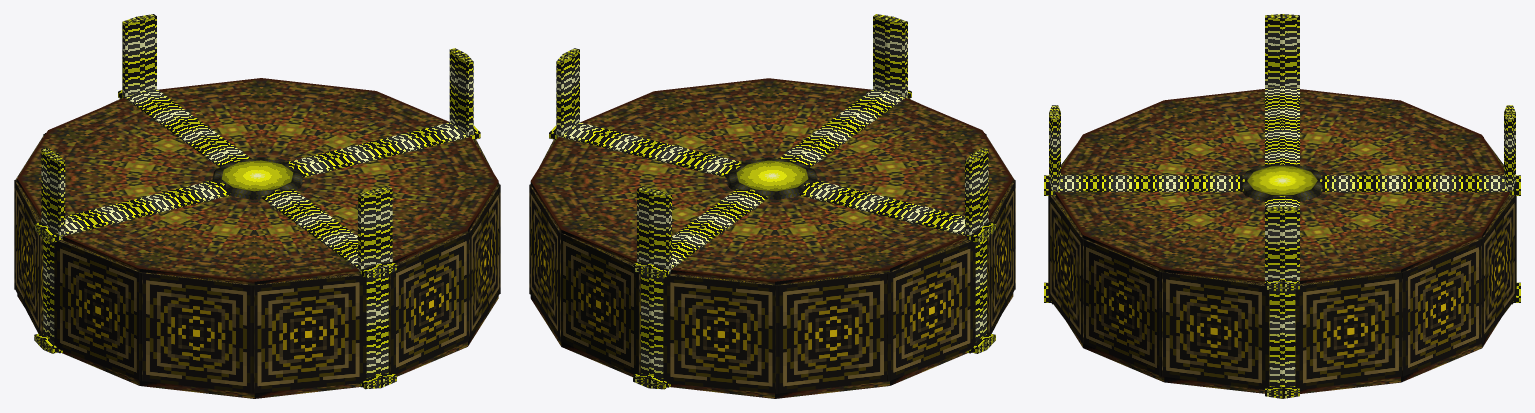
The model's file is SelectStage.fbx.
3 renders of one model, left to right at view 1: azimuth 30°, elevation 25°; view 2: azimuth 150°, elevation 25°; view 3: azimuth 270°, elevation 25°, orthographic. The views are drawn at different scales.
Visible parts, largest first — view 1: cylinder_selection_4, cylinder_selection_6, cylinder_selection_5, cylinder_selection_7, cuboid_5, cuboid_3, cuboid_4, cuboid_1, cylinder_8, cylinder_10, cuboid, cylinder_12 (+10 smaller); view 2: cylinder_selection_7, cylinder_selection_5, cylinder_selection_4, cylinder_selection_6, cuboid_11, cuboid_7, cuboid_6, cuboid_8, cylinder_5, cylinder_10, cylinder_12, cuboid_10 (+10 smaller); view 3: cylinder_selection_6, cylinder_selection_5, cylinder_selection_4, cylinder_selection_7, cuboid_2, cuboid_9, cuboid, cuboid_10, cylinder_6, cuboid_1, cuboid_8, cylinder_11 (+10 smaller).
Part boxes in pixels (x1,y1,x2,y2): cylinder_selection_4: (63,195,359,284); cylinder_selection_6: (158,78,449,162); cylinder_selection_5: (296,137,498,263); cylinder_selection_7: (17,98,219,221); cuboid_5: (250,273,366,393); cuboid_3: (139,272,254,393); cuboid_4: (54,240,142,381); cuboid_1: (388,231,471,374); cylinder_8: (358,186,392,387); cylinder_10: (34,180,230,242); cuboid: (468,184,500,340); cylinder_12: (286,122,480,177); cylinder_selection_7: (671,196,966,284); cylinder_selection_5: (580,78,871,162); cylinder_selection_4: (811,98,1013,221); cylinder_selection_6: (530,137,733,263); cuboid_11: (663,273,779,393); cuboid_7: (775,272,890,393); cuboid_6: (885,240,975,381); cuboid_8: (558,231,640,376); cylinder_5: (637,186,671,387); cylinder_10: (799,180,995,242); cylinder_12: (549,122,743,177); cuboid_10: (529,184,560,341); cylinder_selection_6: (1300,192,1509,283); cylinder_selection_5: (1055,192,1264,283); cylinder_selection_4: (1061,89,1264,175); cylinder_selection_7: (1300,89,1503,175); cuboid_2: (1159,272,1269,389); cuboid_9: (1295,272,1405,389); cuboid: (1081,238,1163,376); cuboid_10: (1402,238,1483,376); cylinder_6: (1265,206,1299,395); cuboid_1: (1048,195,1083,343); cuboid_8: (1481,195,1516,343); cylinder_11: (1044,175,1247,195).
Bounding box in the file's own units: 675 × 292 × 675.
5 materials, 5 textured.
